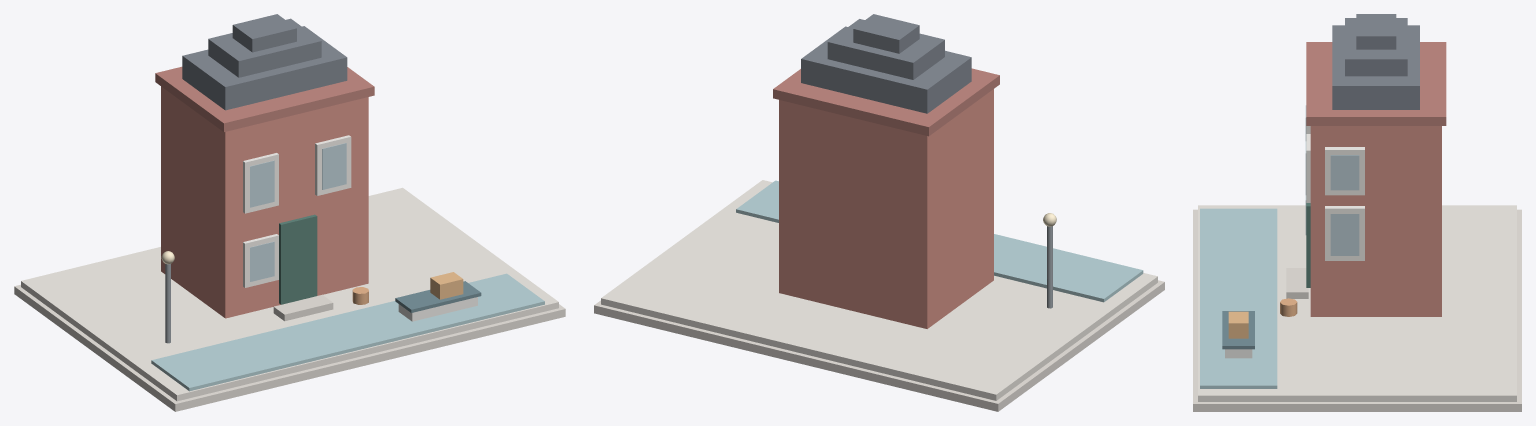
File: canal.glb
3 views of the same model, side by side, from view 1: azimuth 30°, elevation 25°; view 2: azimuth 150°, elevation 25°; view 3: azimuth 270°, elevation 25° (orthographic). The views are drawn at different scales.
Bounding box in the file's own units: 3.68 × 2.48 × 2.63.
